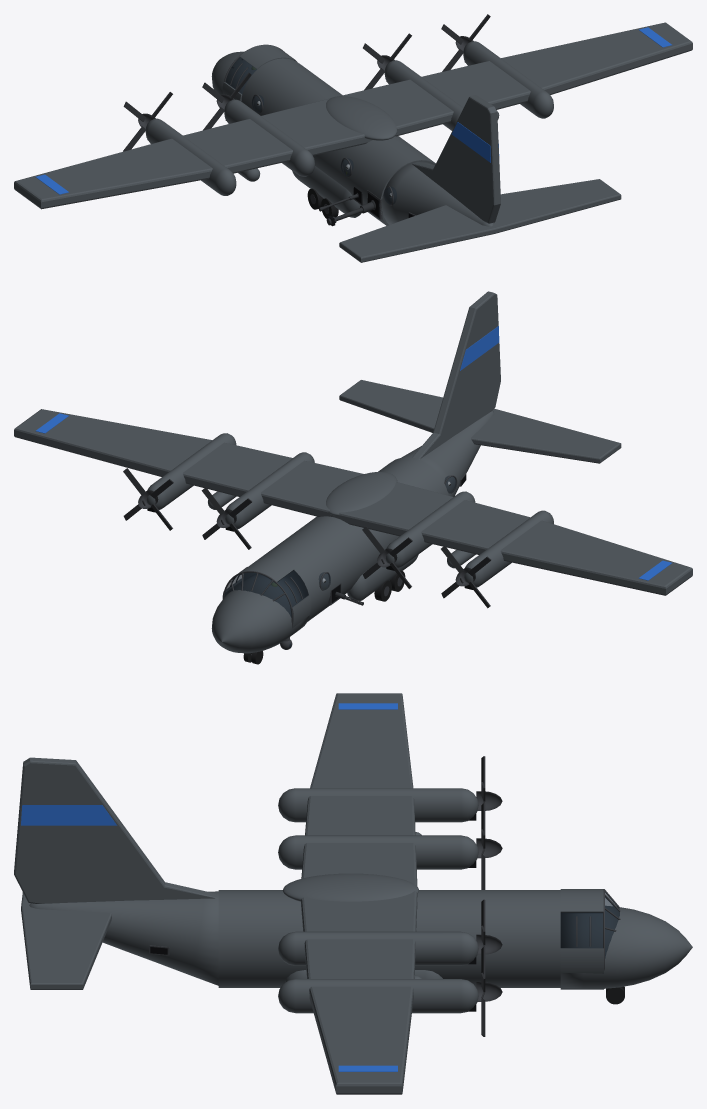
3 renders of one model, top to bottom at view 1: azimuth 30°, elevation 25°; view 2: azimuth 150°, elevation 25°; view 3: azimuth 270°, elevation 25°, orthographic. The views are drawn at different scales.
Visible parts, largest first — view 1: wing_main, tail_stabilizer, fuselage_center, tail_fin, fuselage_aft_upsweep, wing_center_fairing, nacelle_1, nacelle_4, nacelle_2, gear_sponson_L, nacelle_3, fuselage_nose_radome (+3 smaller); view 2: wing_main, fuselage_center, tail_stabilizer, tail_fin, fuselage_nose_radome, fuselage_aft_upsweep, wing_center_fairing, cockpit_glass_shell, nacelle_1, nacelle_4, nacelle_2, nacelle_3 (+3 smaller); view 3: wing_main, fuselage_center, tail_fin, fuselage_aft_upsweep, fuselage_nose_radome, tail_stabilizer, nacelle_4, nacelle_3, nacelle_1, nacelle_2, wing_center_fairing, cockpit_glass_shell (+3 smaller).
Boxes of the visible parts, bbox=[...] form: wing_main: bbox=[14, 22, 692, 209]; tail_stabilizer: bbox=[339, 179, 621, 262]; fuselage_center: bbox=[241, 58, 435, 225]; tail_fin: bbox=[411, 95, 500, 223]; fuselage_aft_upsweep: bbox=[381, 161, 493, 226]; wing_center_fairing: bbox=[326, 96, 397, 140]; nacelle_1: bbox=[145, 118, 236, 195]; nacelle_4: bbox=[463, 41, 553, 118]; nacelle_2: bbox=[224, 99, 314, 176]; gear_sponson_L: bbox=[292, 166, 361, 217]; nacelle_3: bbox=[384, 60, 463, 130]; fuselage_nose_radome: bbox=[211, 51, 256, 94]; wing_main: bbox=[14, 409, 692, 595]; fuselage_center: bbox=[243, 457, 448, 621]; tail_stabilizer: bbox=[339, 380, 621, 463]; tail_fin: bbox=[412, 291, 500, 459]; fuselage_nose_radome: bbox=[211, 574, 309, 653]; fuselage_aft_upsweep: bbox=[402, 410, 494, 496]; wing_center_fairing: bbox=[326, 472, 397, 515]; cockpit_glass_shell: bbox=[224, 570, 308, 617]; nacelle_1: bbox=[464, 510, 553, 587]; nacelle_4: bbox=[146, 433, 236, 509]; nacelle_2: bbox=[385, 491, 475, 568]; nacelle_3: bbox=[225, 452, 314, 528]; wing_main: bbox=[301, 693, 417, 1094]; fuselage_center: bbox=[218, 890, 560, 987]; tail_fin: bbox=[14, 757, 217, 903]; fuselage_aft_upsweep: bbox=[29, 891, 218, 985]; fuselage_nose_radome: bbox=[560, 906, 692, 988]; tail_stabilizer: bbox=[21, 892, 111, 989]; nacelle_4: bbox=[278, 979, 478, 1013]; nacelle_3: bbox=[278, 931, 478, 965]; nacelle_1: bbox=[278, 788, 478, 822]; nacelle_2: bbox=[278, 835, 478, 869]; wing_center_fairing: bbox=[282, 873, 419, 901]; cockpit_glass_shell: bbox=[560, 892, 619, 958].
Size of the model in its own units: 40.64 by 11.7 by 29.78.
